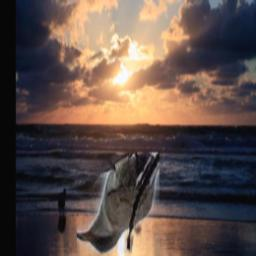Cuckoo: (77, 154, 160, 255)
